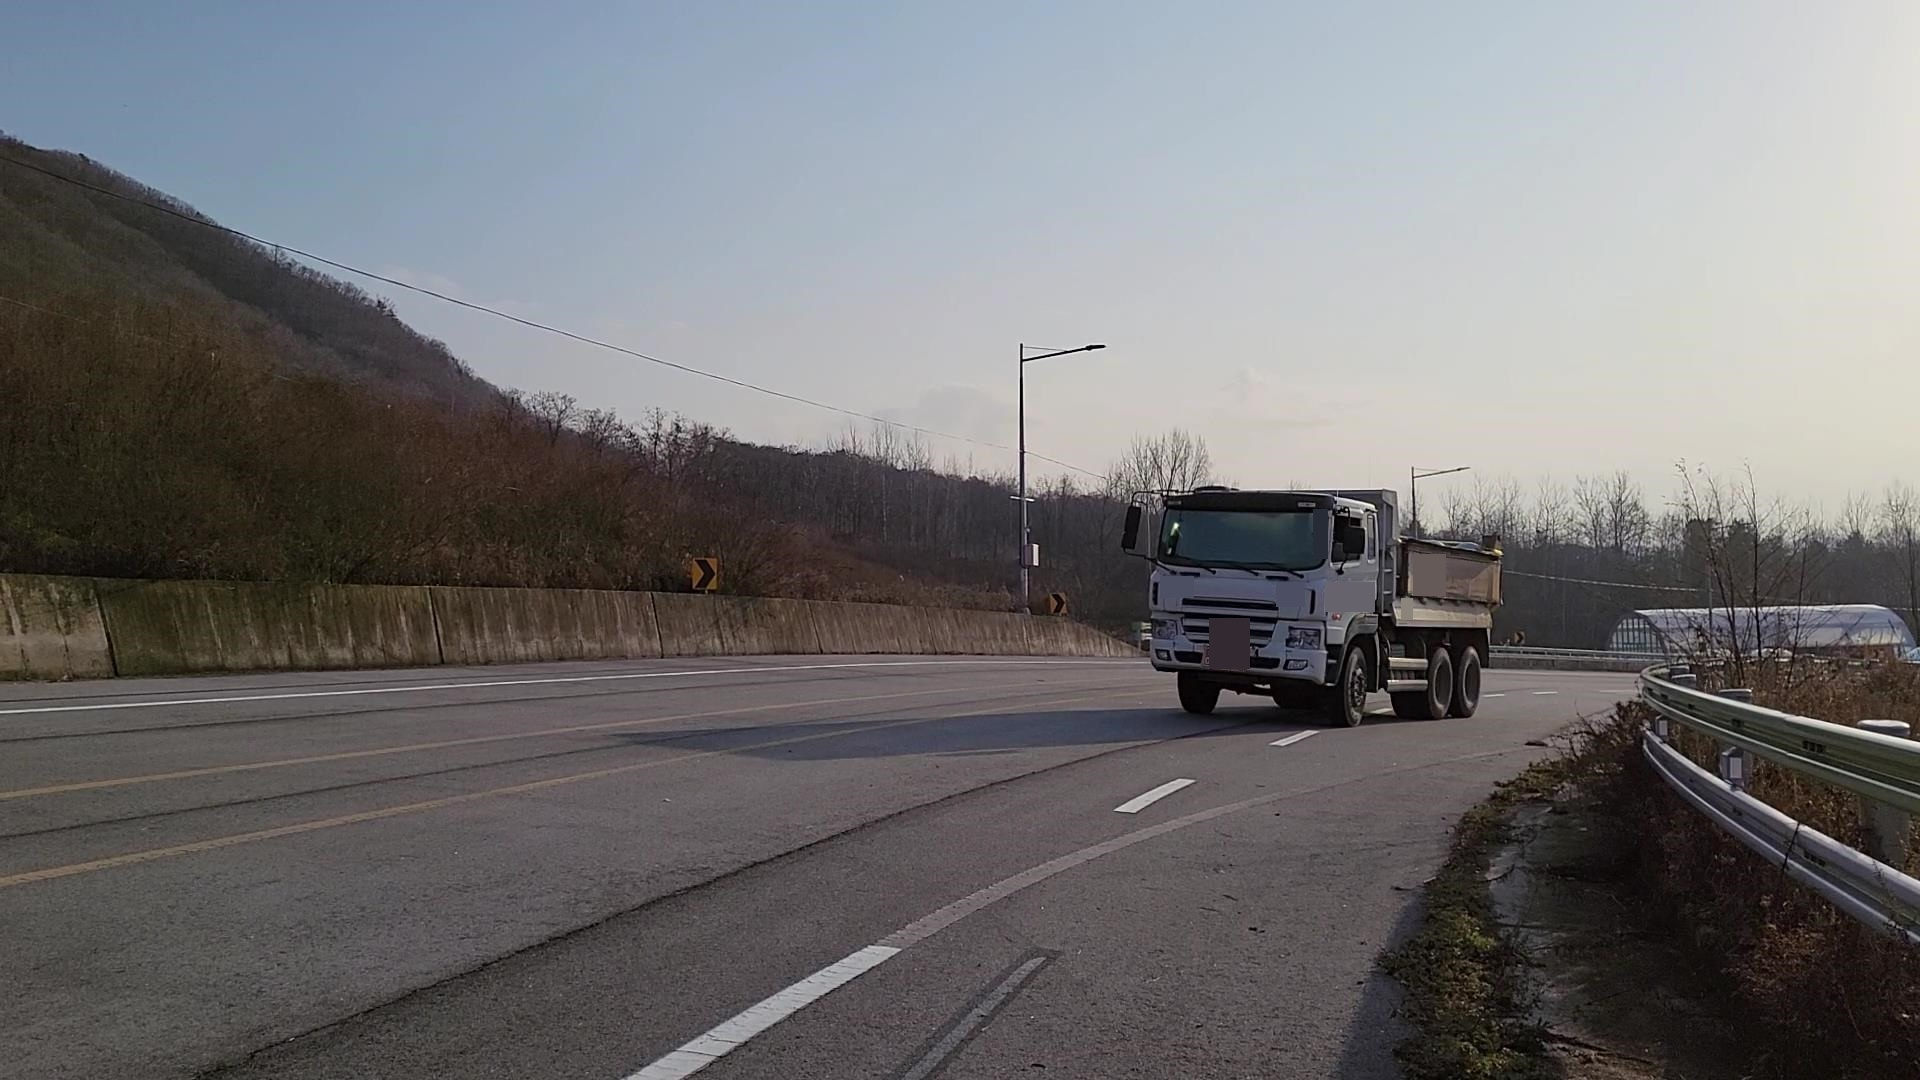불법차량: (1118, 485, 1506, 729)
